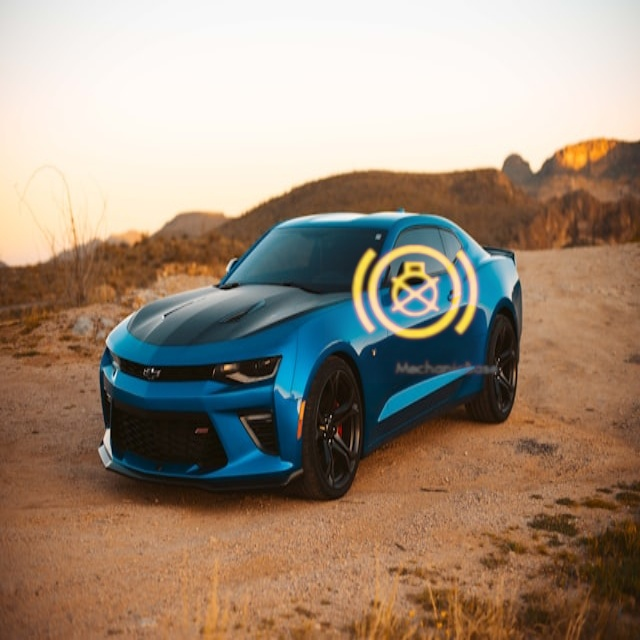symbol: (325, 203, 505, 383)
